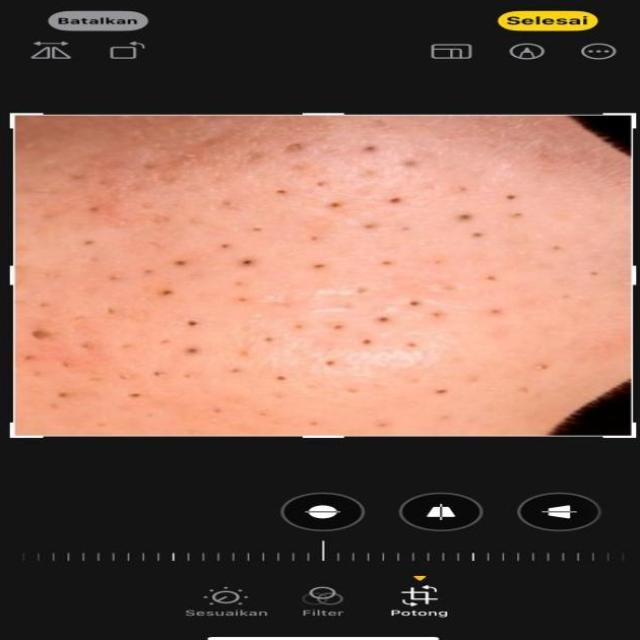blackhead: (41, 123, 601, 412)
